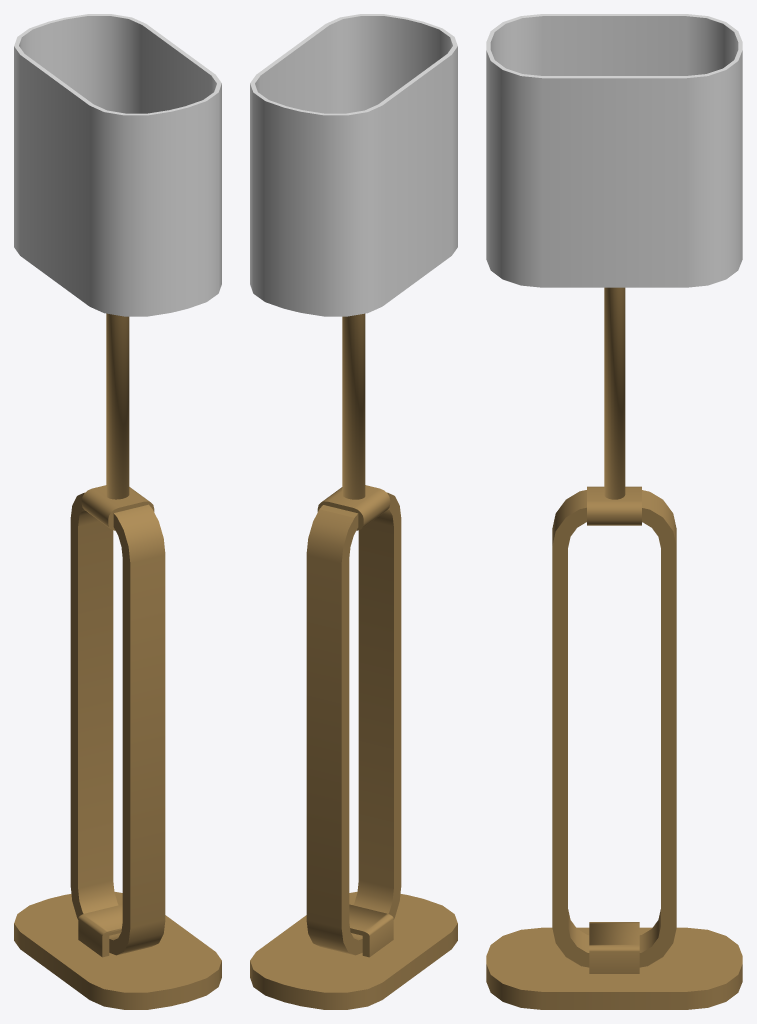
Rendered from FancyLamp.glb.
The picture shows the model from 3 angles, left to right: view 1: azimuth 30°, elevation 25°; view 2: azimuth 150°, elevation 25°; view 3: azimuth 270°, elevation 25°; orthographic projection. The views are drawn at different scales.
Parts seen in each view (by area): view 1: Lamp, Body, Stand, Pole, Foot, Top; view 2: Lamp, Body, Stand, Pole, Foot, Top; view 3: Lamp, Body, Stand, Pole, Foot, Top.
Boxes of the visible parts, box(x1,y1,x2,y2) form: Lamp: box(14, 14, 221, 316); Body: box(70, 492, 165, 955); Stand: box(14, 891, 221, 1009); Pole: box(106, 313, 129, 499); Foot: box(78, 904, 122, 957); Top: box(81, 485, 154, 530); Lamp: box(250, 14, 457, 316); Body: box(306, 492, 401, 955); Stand: box(250, 891, 457, 1009); Pole: box(342, 313, 365, 499); Foot: box(349, 904, 393, 957); Top: box(317, 485, 390, 530); Lamp: box(486, 14, 742, 287); Body: box(552, 490, 676, 967); Stand: box(486, 927, 742, 1009); Pole: box(604, 287, 625, 499); Foot: box(589, 922, 639, 973); Top: box(587, 486, 641, 525).
Bounding box in the file's own units: 0.22 × 1.49 × 0.371.
